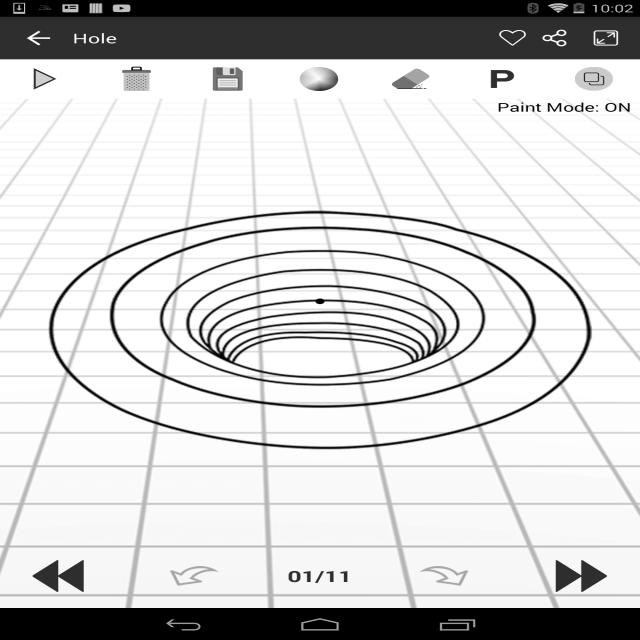CheckBox: (25, 66, 66, 92), (496, 28, 529, 48)
ImageButton: (9, 19, 68, 57)
ImageView: (0, 99, 640, 560), (32, 560, 84, 592), (169, 560, 220, 592), (419, 560, 470, 592), (556, 560, 607, 592), (298, 66, 340, 92), (573, 66, 615, 92), (116, 66, 157, 92), (207, 66, 248, 92), (390, 66, 431, 92), (482, 66, 523, 92)
ProgressBar: (294, 314, 346, 346)
TextView: (497, 99, 632, 115), (266, 566, 373, 586), (580, 22, 632, 54), (529, 22, 580, 54), (72, 29, 117, 47)
